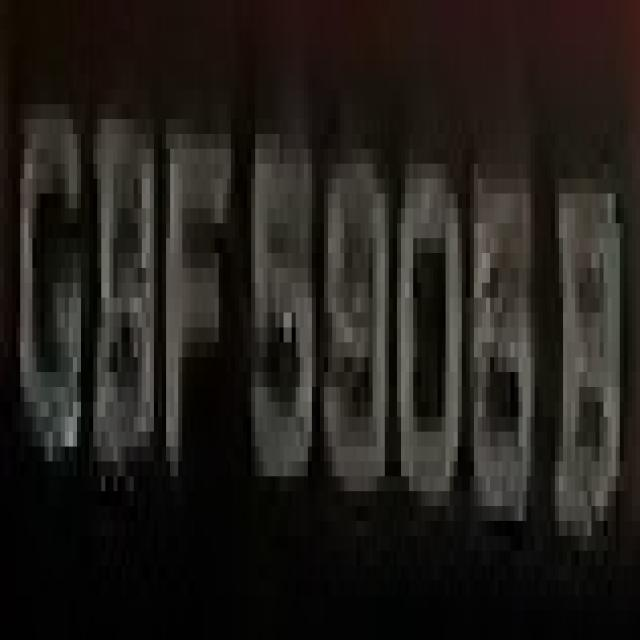0: (397, 134, 462, 566)
5: (466, 104, 543, 536), (251, 104, 320, 506)
9: (320, 90, 397, 477)
B: (81, 30, 158, 476), (555, 119, 624, 551)
F: (162, 89, 239, 491)
G: (16, 104, 89, 491)
